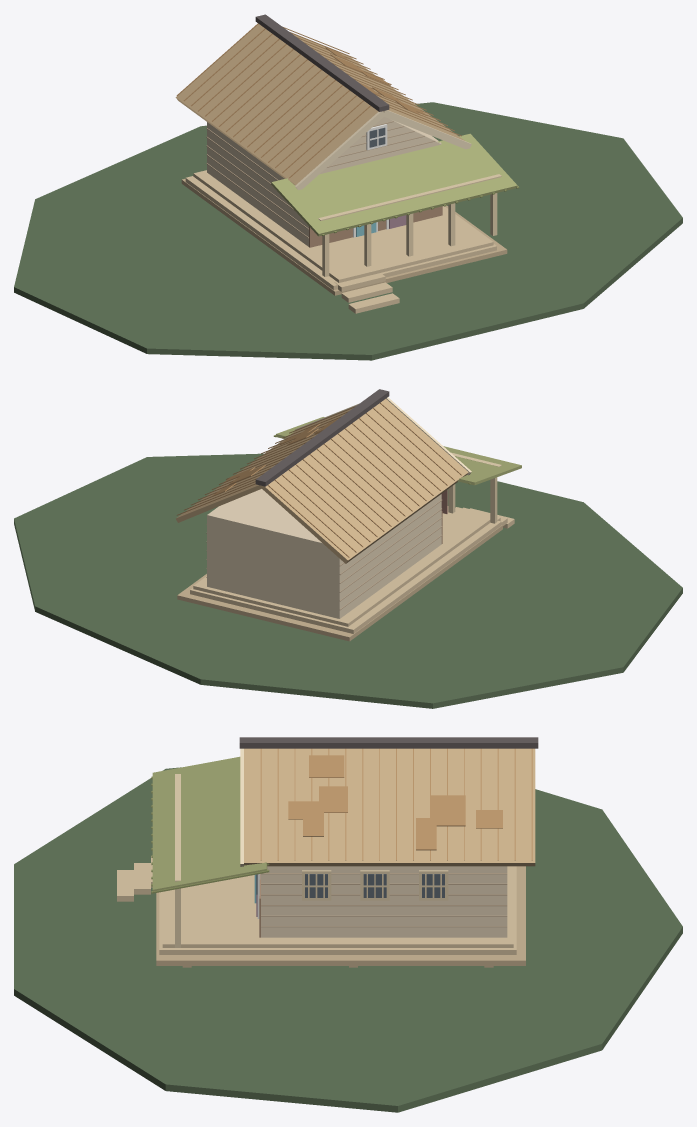
The model's file is Filipino_House_03.fbx.
The picture shows the model from 3 angles, top to bottom: view 1: azimuth 30°, elevation 25°; view 2: azimuth 150°, elevation 25°; view 3: azimuth 270°, elevation 25°; orthographic projection. The views are drawn at different scales.
Parts seen in each view (by area): view 1: Ground, Roof, PorchRoof, PlatTop, WallsUpper, PlatMid, GableFront, PlatBottom, RidgeCap, Barge, FrontWainscot, PorchBeam (+3 smaller); view 2: Ground, Roof, WallsUpper, PlatTop, PlatMid, PlatBottom, RidgeCap, PorchRoof; view 3: Ground, Roof, WallsUpper, PorchRoof, PlatTop, PlatBottom, RidgeCap, PlatMid, RoofPatch, RoofPatch.004, RoofPatch.003, RoofPatch.002 (+2 smaller).
Boxes of the visible parts, x1=… form: Ground: x1=14, y1=102, x2=682, y2=360; Roof: x1=175, y1=24, x2=464, y2=185; PorchRoof: x1=271, y1=133, x2=517, y2=236; PlatTop: x1=193, y1=170, x2=493, y2=282; WallsUpper: x1=207, y1=122, x2=441, y2=246; PlatMid: x1=185, y1=176, x2=496, y2=290; GableFront: x1=320, y1=117, x2=441, y2=173; PlatBottom: x1=181, y1=178, x2=507, y2=295; RidgeCap: x1=255, y1=14, x2=389, y2=111; Barge: x1=295, y1=111, x2=385, y2=190; FrontWainscot: x1=309, y1=206, x2=442, y2=247; PorchBeam: x1=318, y1=174, x2=501, y2=220; Ground: x1=14, y1=453, x2=682, y2=708; Roof: x1=176, y1=399, x2=468, y2=563; WallsUpper: x1=207, y1=489, x2=441, y2=618; PlatTop: x1=193, y1=506, x2=490, y2=626; PlatMid: x1=190, y1=520, x2=501, y2=633; PlatBottom: x1=177, y1=525, x2=502, y2=641; RidgeCap: x1=255, y1=389, x2=389, y2=486; PorchRoof: x1=276, y1=417, x2=521, y2=485; Ground: x1=14, y1=767, x2=682, y2=1112; Roof: x1=244, y1=748, x2=535, y2=866; WallsUpper: x1=261, y1=866, x2=507, y2=937; PorchRoof: x1=152, y1=756, x2=267, y2=891; PlatTop: x1=162, y1=866, x2=513, y2=947; PlatBottom: x1=156, y1=866, x2=525, y2=965; RidgeCap: x1=239, y1=737, x2=538, y2=748; PlatMid: x1=159, y1=866, x2=516, y2=954; RoofPatch: x1=430, y1=795, x2=465, y2=826; RoofPatch.004: x1=309, y1=755, x2=344, y2=777; RoofPatch.003: x1=319, y1=786, x2=347, y2=812; RoofPatch.002: x1=416, y1=818, x2=436, y2=850.
Bounding box in the file's own units: 2757 × 692 × 2172.
